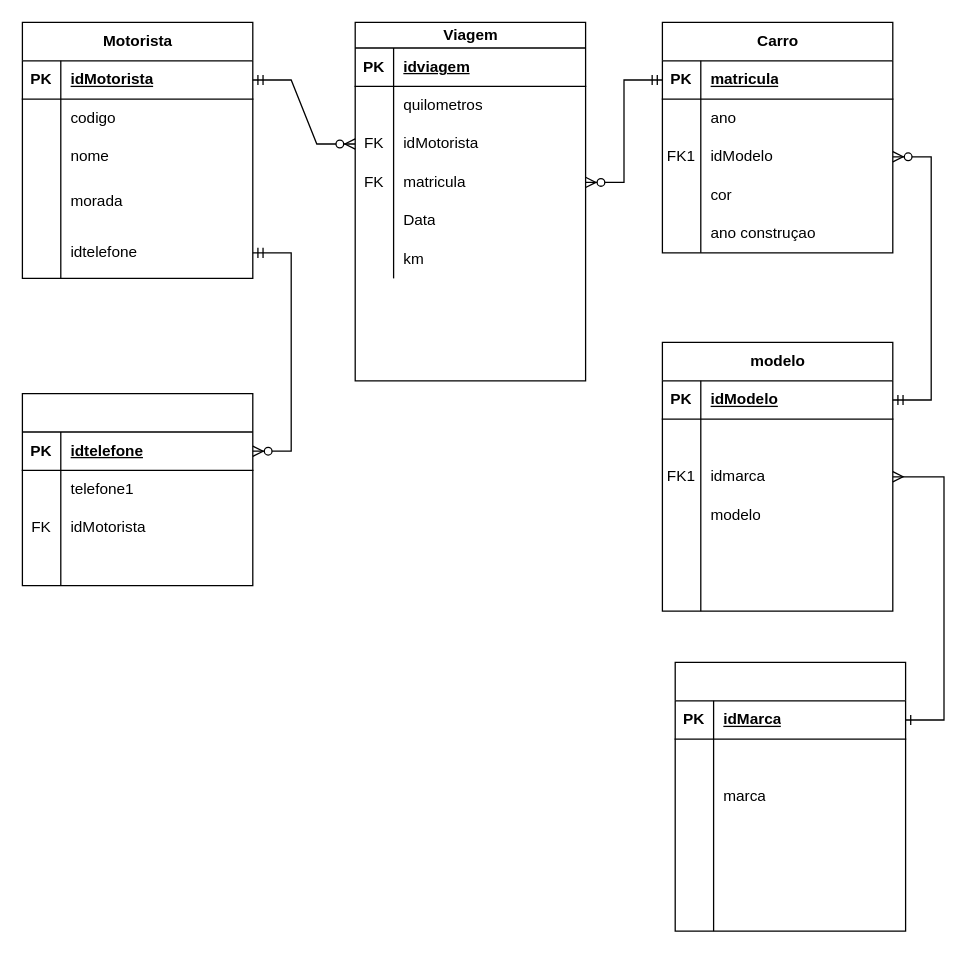
The diagram is 978 pixels wide and 954 high, and some of its shapes have lost their labels. Each missing label, with the box of its shape:
marcas: (674, 661, 906, 931)
telefones: (21, 392, 253, 586)
